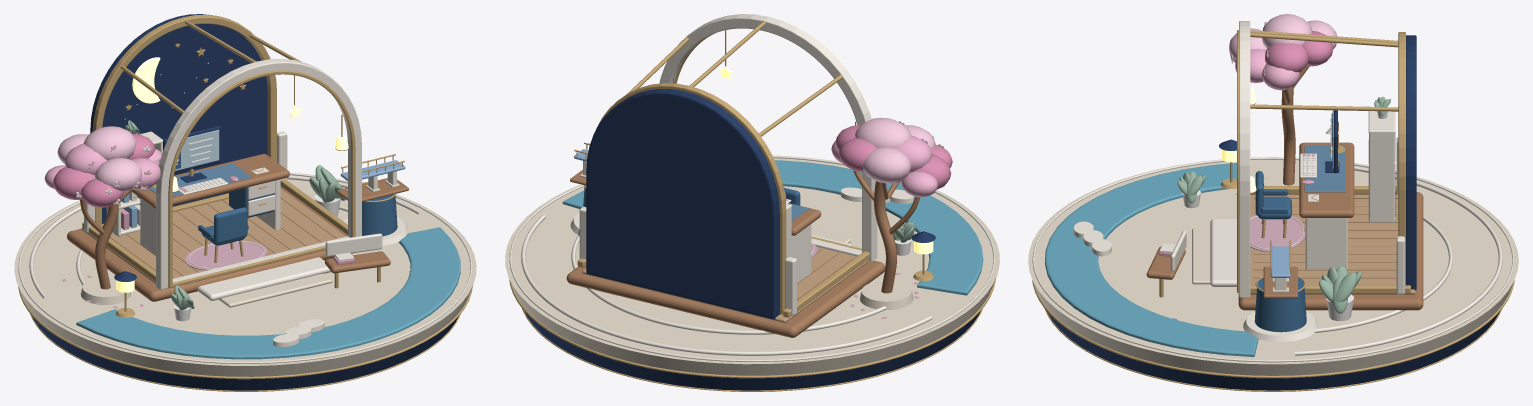
The model's file is moon-bay-studio.glb.
3 renders of one model, left to right at view 1: azimuth 30°, elevation 25°; view 2: azimuth 150°, elevation 25°; view 3: azimuth 270°, elevation 25°, orthographic. The views are drawn at different scales.
Parts seen in each view (by area): view 1: Moon Bay Sakura Studio, studio-about, studio-ai, studio-bim, studio-archive, studio-notes; view 2: Moon Bay Sakura Studio, studio-about, studio-ai, studio-bim; view 3: Moon Bay Sakura Studio, studio-ai, studio-about, studio-bim, studio-notes.
Boxes of the visible parts, bbox=[...] form: Moon Bay Sakura Studio: bbox=[14, 14, 476, 391]; studio-about: bbox=[44, 126, 161, 317]; studio-ai: bbox=[131, 126, 289, 255]; studio-bim: bbox=[337, 154, 408, 245]; studio-archive: bbox=[229, 180, 275, 217]; studio-notes: bbox=[106, 131, 162, 237]; Moon Bay Sakura Studio: bbox=[505, 14, 999, 391]; studio-about: bbox=[831, 117, 952, 318]; studio-ai: bbox=[784, 191, 821, 283]; studio-bim: bbox=[570, 142, 589, 234]; Moon Bay Sakura Studio: bbox=[1028, 21, 1518, 391]; studio-ai: bbox=[1299, 110, 1354, 269]; studio-about: bbox=[1219, 14, 1336, 194]; studio-bim: bbox=[1243, 240, 1318, 341]; studio-notes: bbox=[1368, 111, 1395, 222].
Size of the model in its own units: 8.1 by 4.77 by 8.1.
